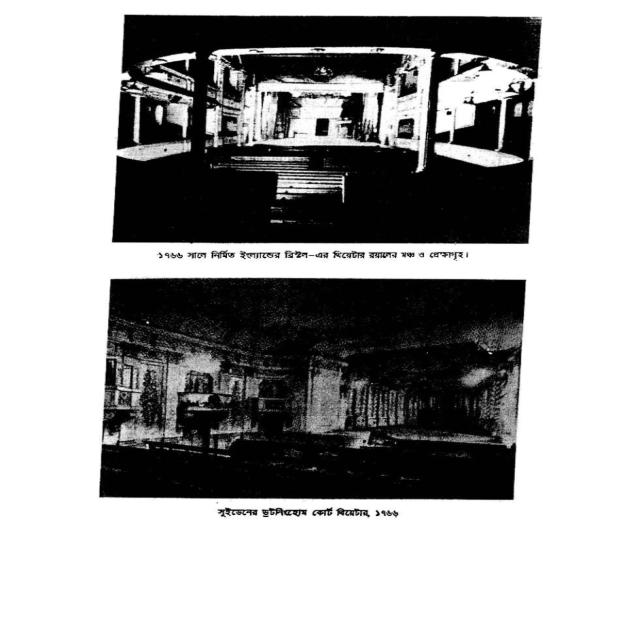caption: (143, 245, 473, 267), (207, 505, 404, 525)
image: (110, 12, 544, 244), (99, 276, 527, 501)
